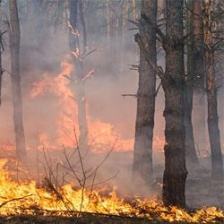fire: (1, 155, 221, 224)
